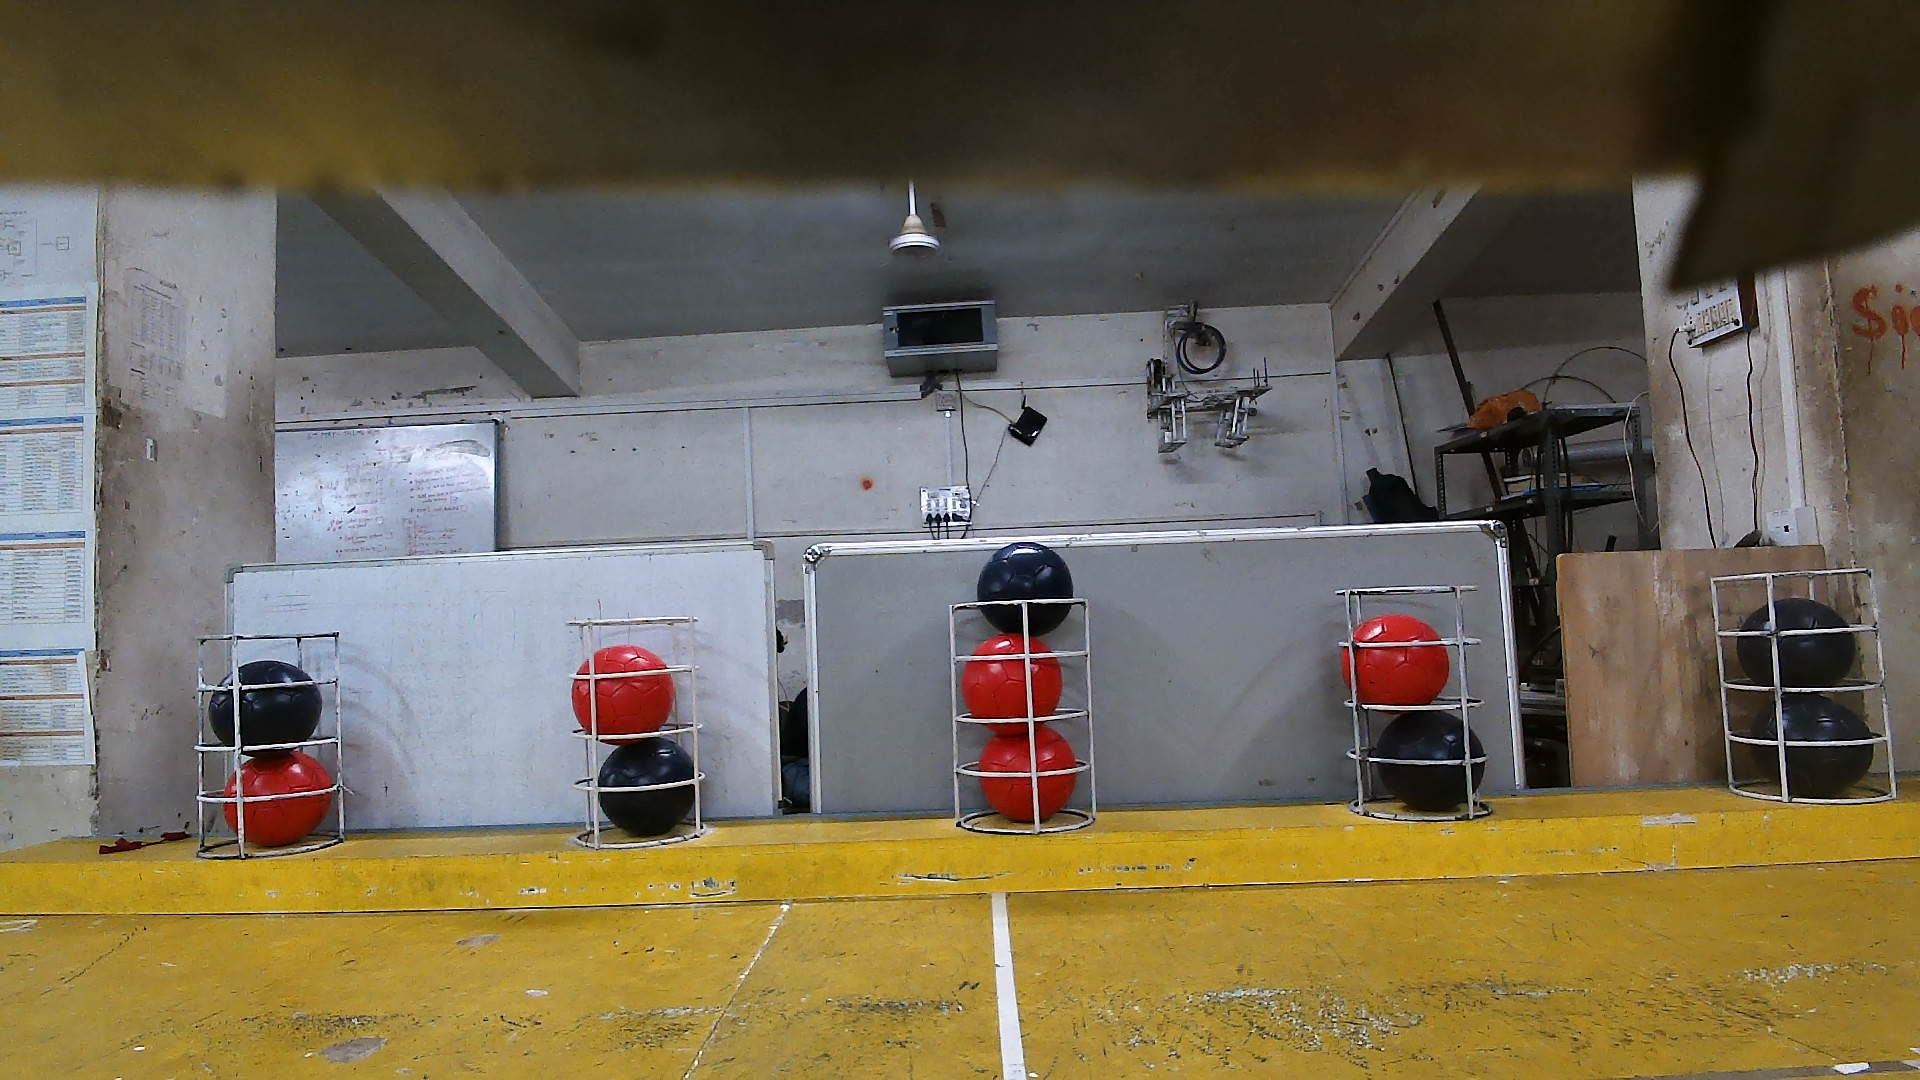dhoka: (1751, 694, 1875, 799), (1373, 708, 1485, 814), (1737, 596, 1857, 690), (206, 661, 323, 748), (596, 738, 694, 836), (978, 541, 1072, 636)
laale: (222, 750, 334, 852), (1342, 615, 1452, 705), (570, 645, 675, 735), (978, 728, 1076, 822), (964, 630, 1065, 720)
